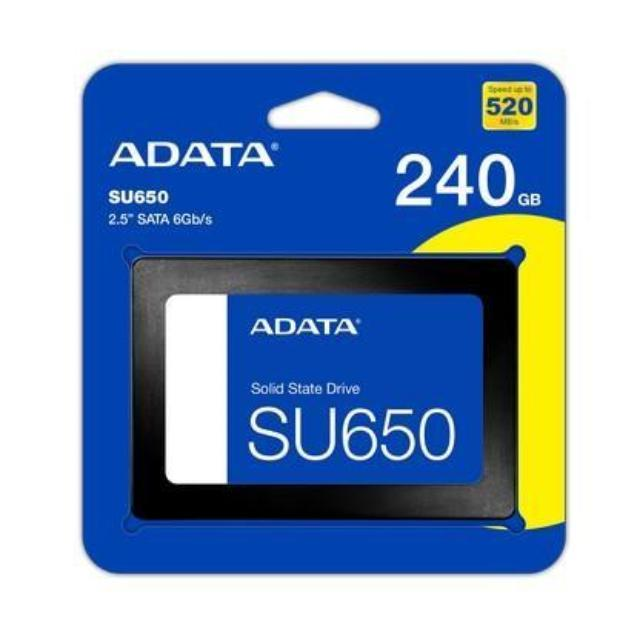DISK: (124, 254, 524, 526)
